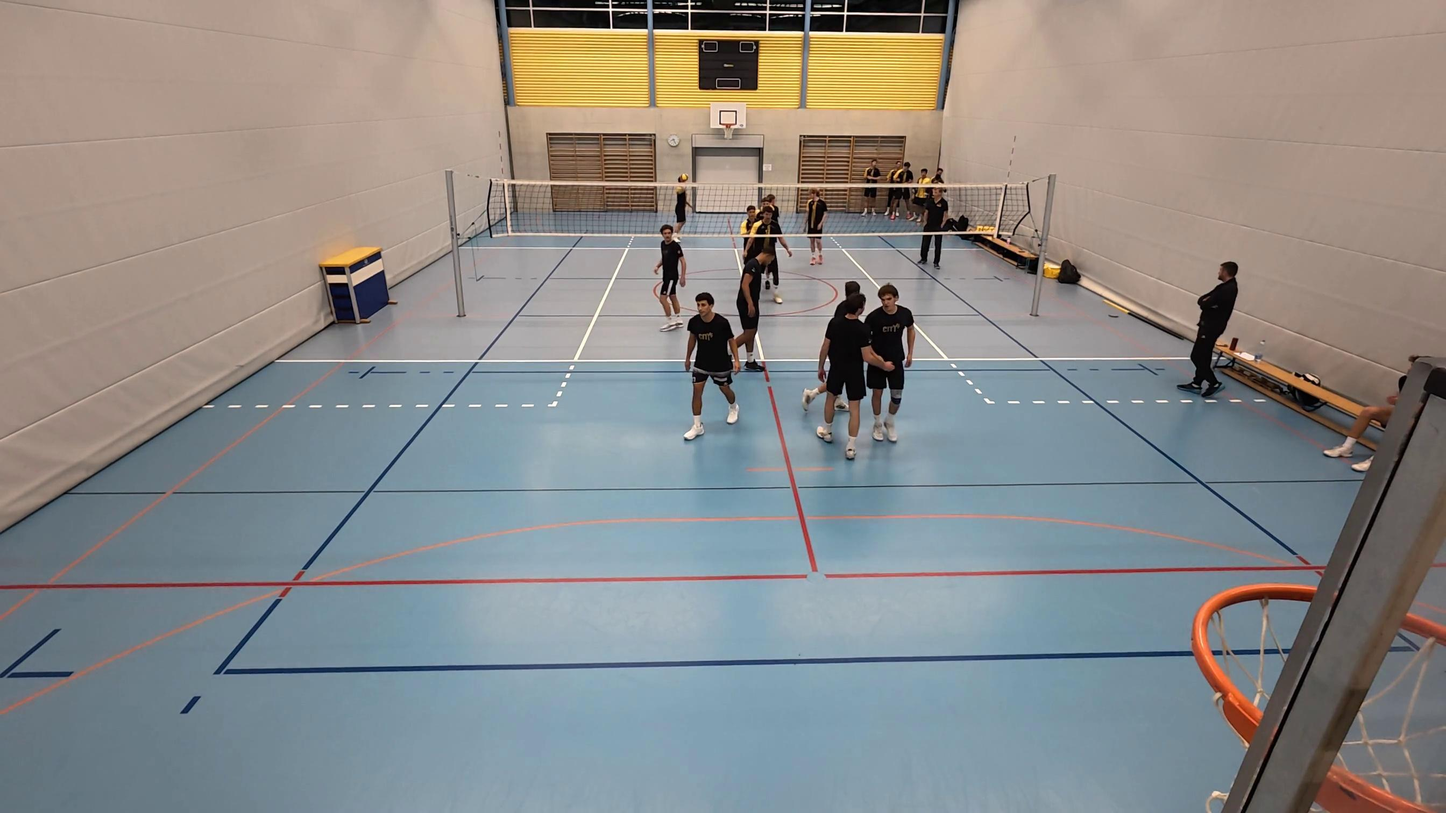Player: (812, 284, 869, 459), (861, 283, 915, 444), (684, 291, 741, 440), (733, 245, 766, 370), (752, 203, 787, 304), (655, 224, 686, 331), (804, 187, 828, 266), (672, 173, 694, 238)
ball: (678, 172, 690, 184)
